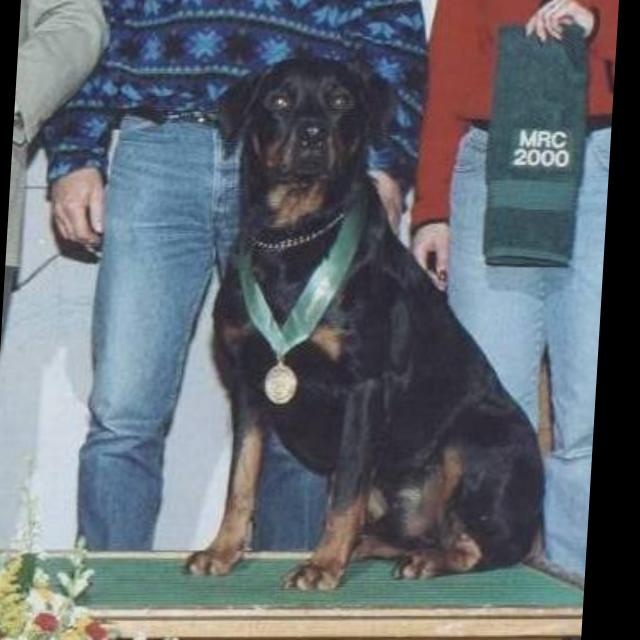person: (23, 1, 433, 551), (401, 2, 620, 589), (1, 2, 113, 557)
rottweiler: (189, 56, 573, 592)
